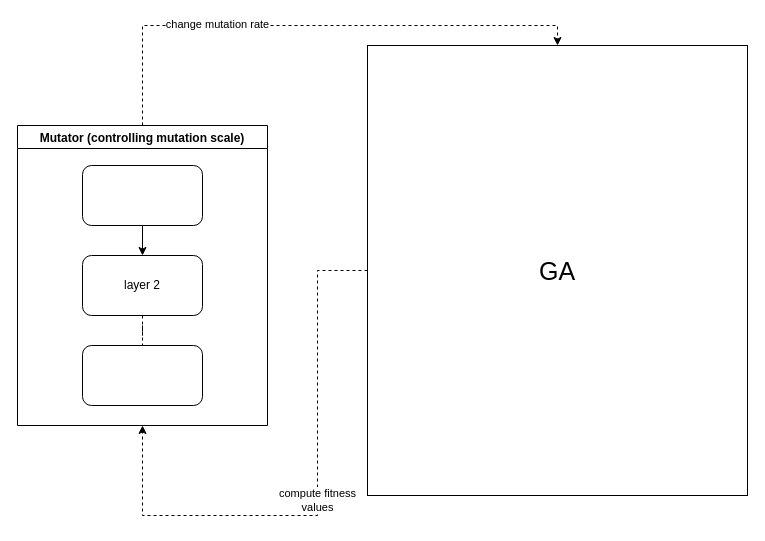
This 765x541 diagram has some shape labels left out. Each missing label, with the box of its shape:
layer 1: (82, 164, 202, 226)
layer n: (82, 344, 202, 406)
